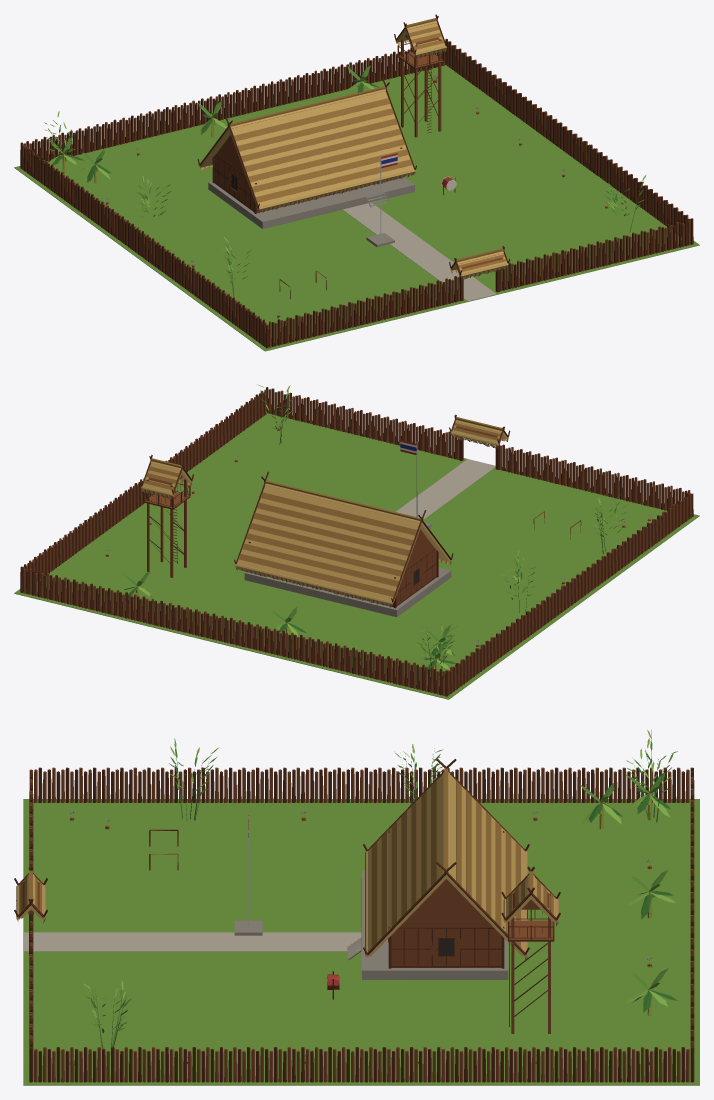
Rendered from police.glb.
3 views of the same model, one above another, from view 1: azimuth 30°, elevation 25°; view 2: azimuth 150°, elevation 25°; view 3: azimuth 270°, elevation 25° (orthographic). The views are drawn at different scales.
Visible parts, largest first — view 1: body; view 2: body; view 3: body.
Boxes of the visible parts, bbox=[...] form: body: bbox=[14, 14, 699, 351]; body: bbox=[14, 384, 699, 699]; body: bbox=[14, 730, 699, 1085].
Bounding box in the file's own units: 47.9 × 11.87 × 48.56.
